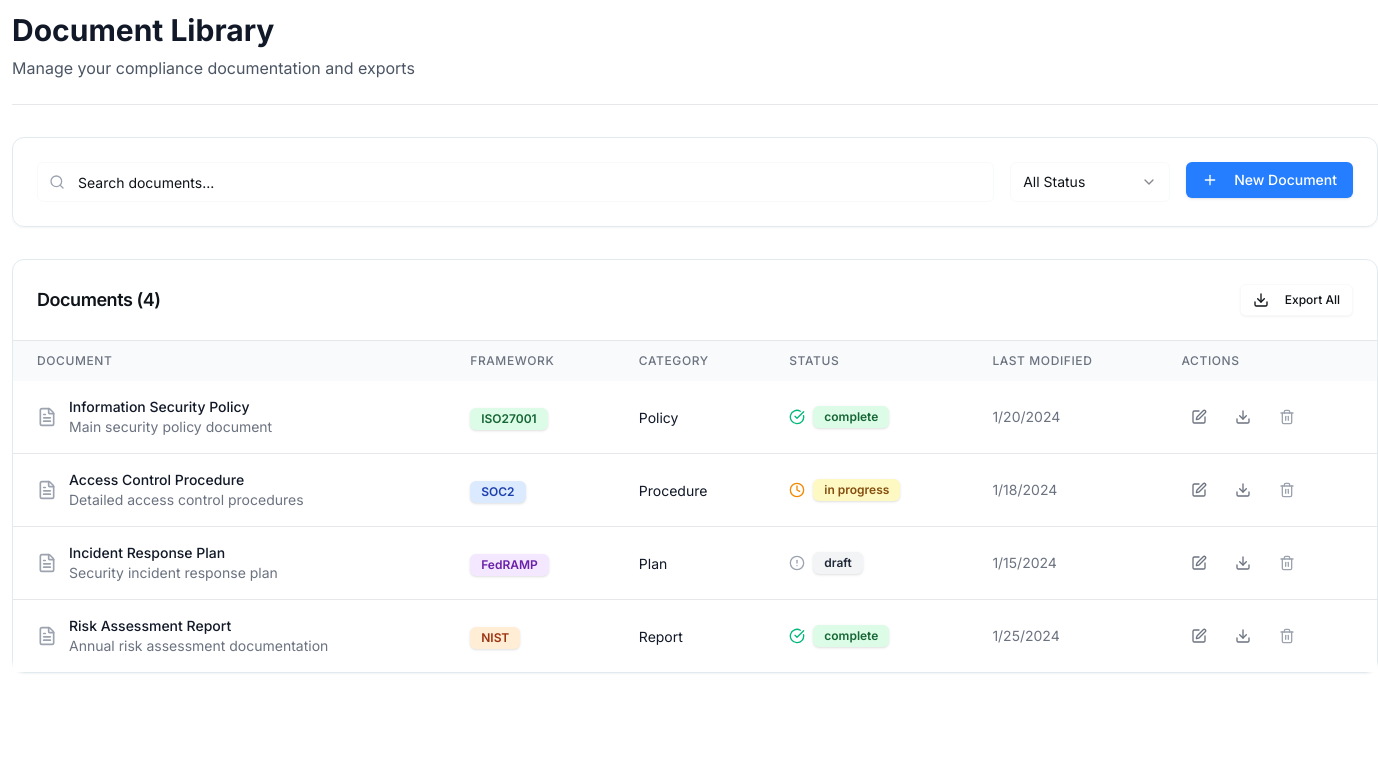
Test case: Documents Page › Status Filter › should filter documents by in_progress status
Click the dropdown with test id "select-status-filter".
click(1090, 182)  # box left=1010, top=162, right=1170, bottom=202
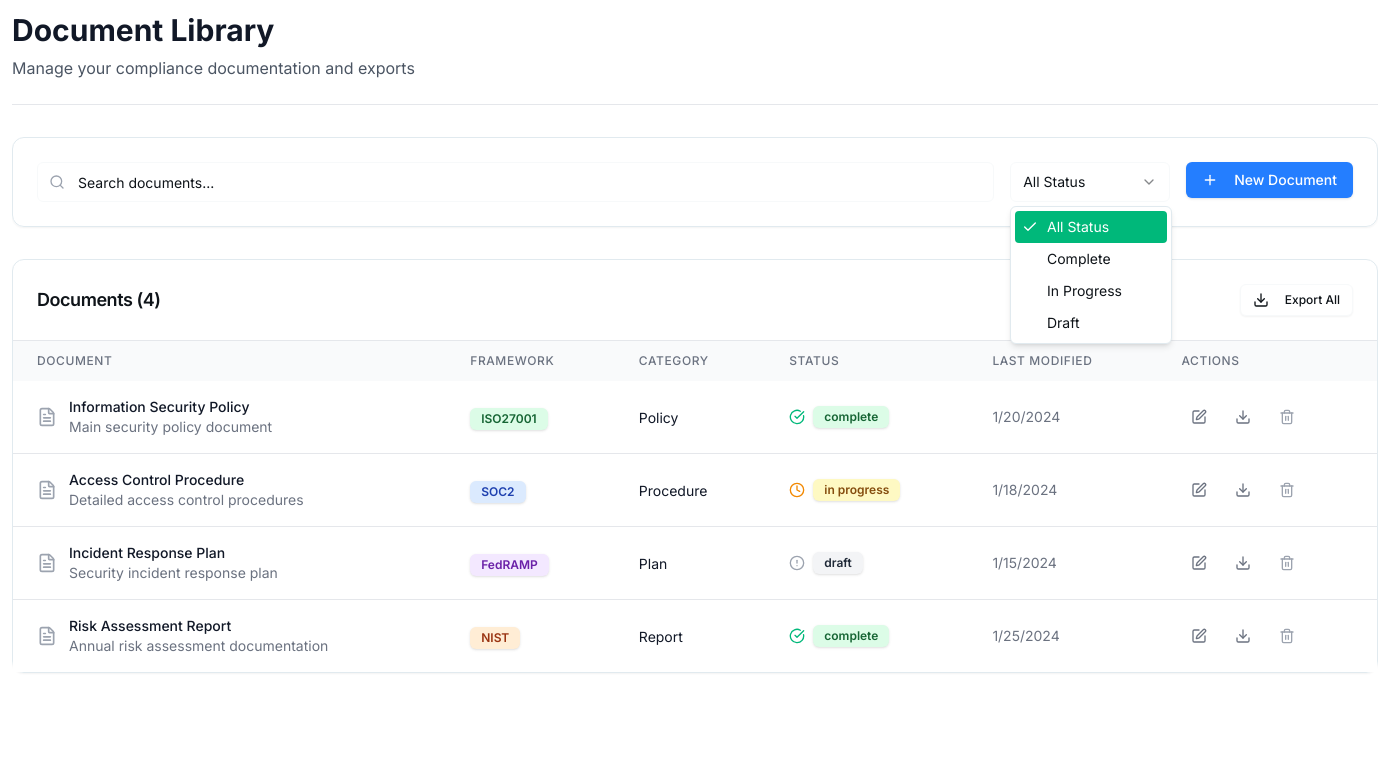
Click the option "In Progress".
click(1084, 290)  # box left=1047, top=282, right=1122, bottom=299
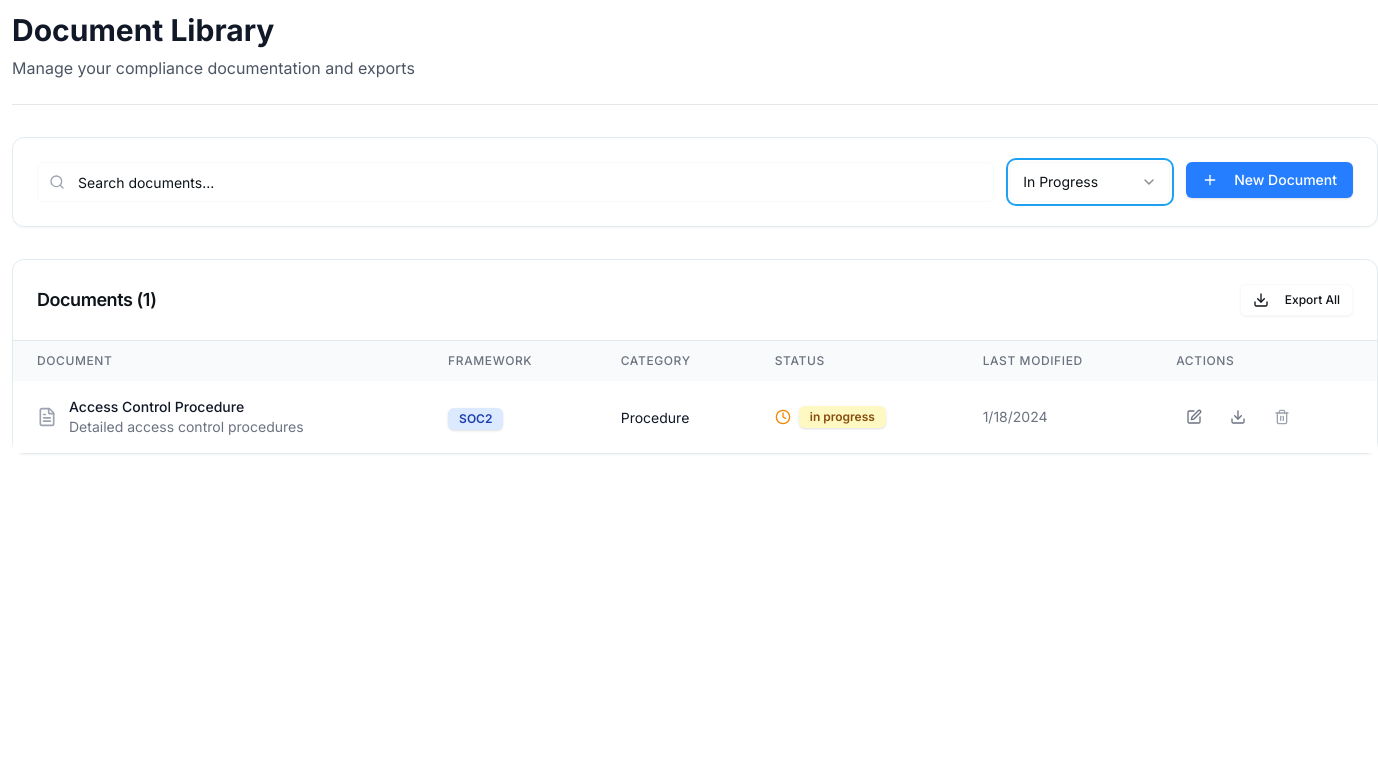
Result: the text "Information Security Policy" is gone
Result: the text "Documents (1)" is shown at left=37, top=286, right=156, bottom=314
